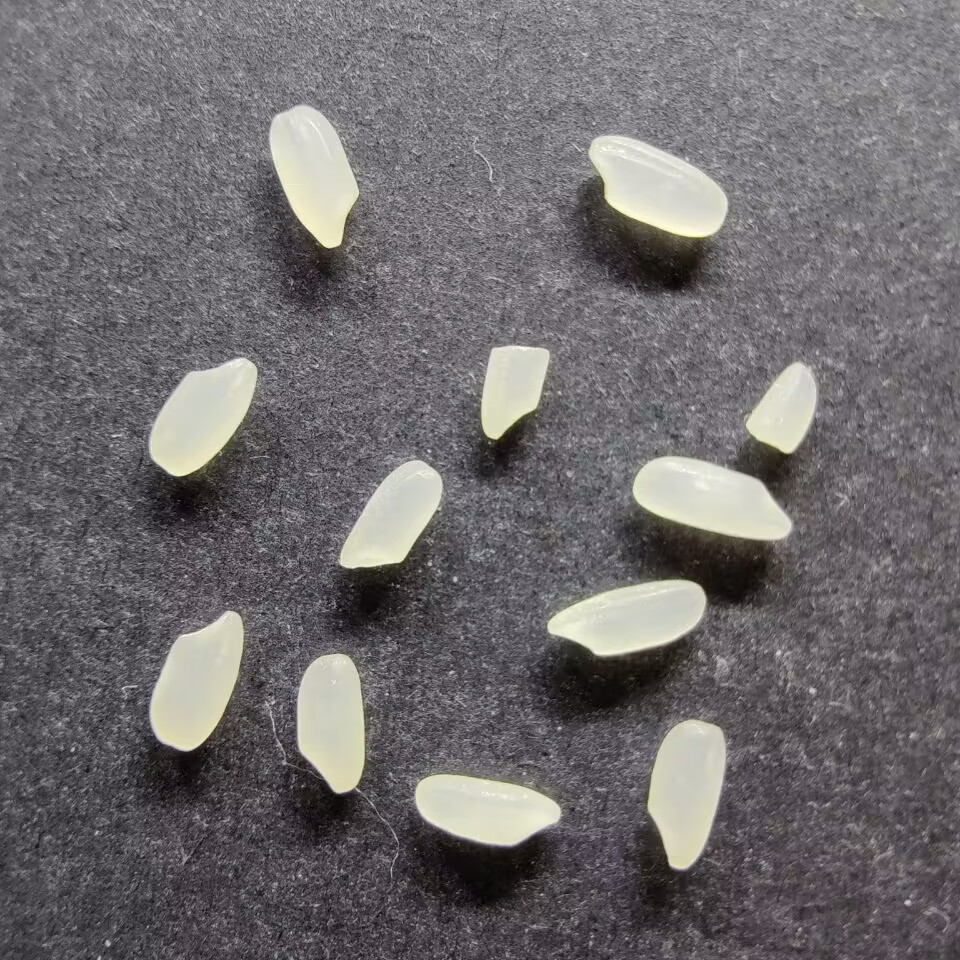broken: (744, 362, 817, 454), (480, 344, 550, 439)
rice: (588, 134, 727, 237), (148, 609, 244, 751), (632, 456, 792, 541), (147, 356, 258, 477), (268, 105, 359, 249), (546, 579, 706, 656), (645, 719, 725, 869), (338, 459, 443, 568), (413, 773, 561, 847), (295, 653, 365, 794)
